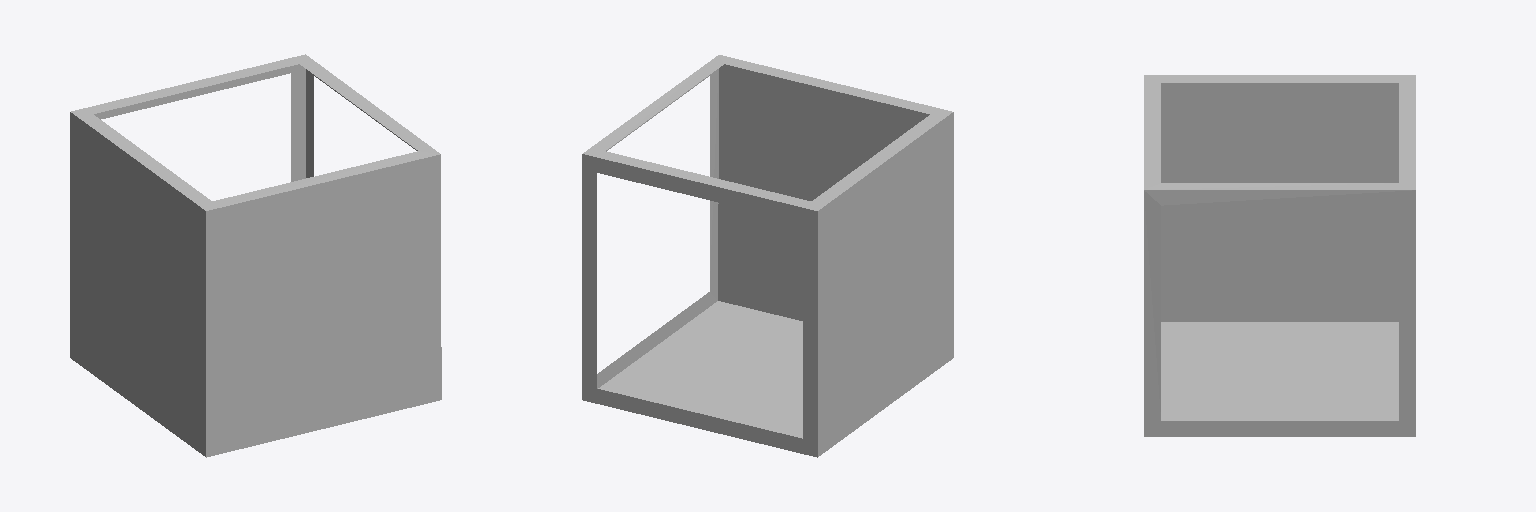
File: normal_cube_corner.obj
The picture shows the model from 3 angles: view 1: azimuth 30°, elevation 25°; view 2: azimuth 150°, elevation 25°; view 3: azimuth 270°, elevation 25°; orthographic projection.
Parts seen in each view (by area): view 1: normal_cube_corner_body; view 2: normal_cube_corner_body; view 3: normal_cube_corner_body.
Part boxes in pixels (x1,y1,x2,y2): normal_cube_corner_body: (70,54,441,457); normal_cube_corner_body: (582,55,953,457); normal_cube_corner_body: (1144,75,1415,436).
Bounding box in the file's own units: 1 × 1 × 1.